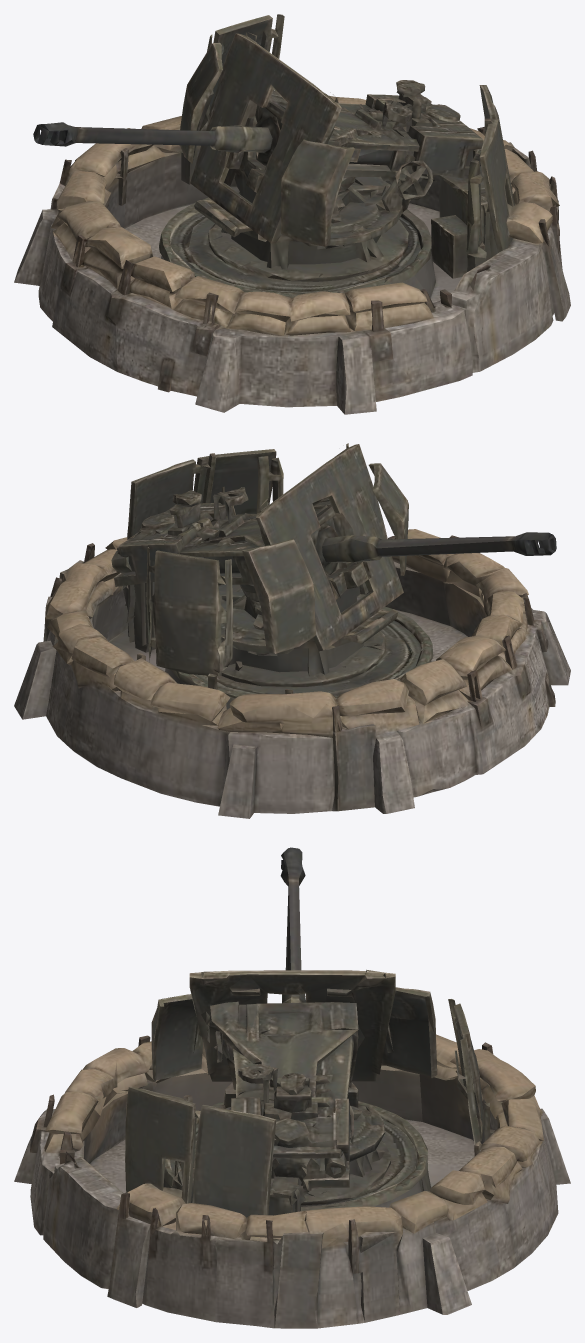
The picture shows the model from 3 angles, top to bottom: view 1: azimuth 30°, elevation 25°; view 2: azimuth 150°, elevation 25°; view 3: azimuth 270°, elevation 25°; orthographic projection. The views are drawn at different scales.
Visible parts, largest first — view 1: aa; view 2: aa; view 3: aa.
Part boxes in pixels (x1,y1,x2,y2): aa: (14,14,570,414); aa: (14,443,570,818); aa: (14,847,570,1328).
Size of the model in its own units: 1.9 by 0.8591 by 1.82.
1 material, 1 textured.
